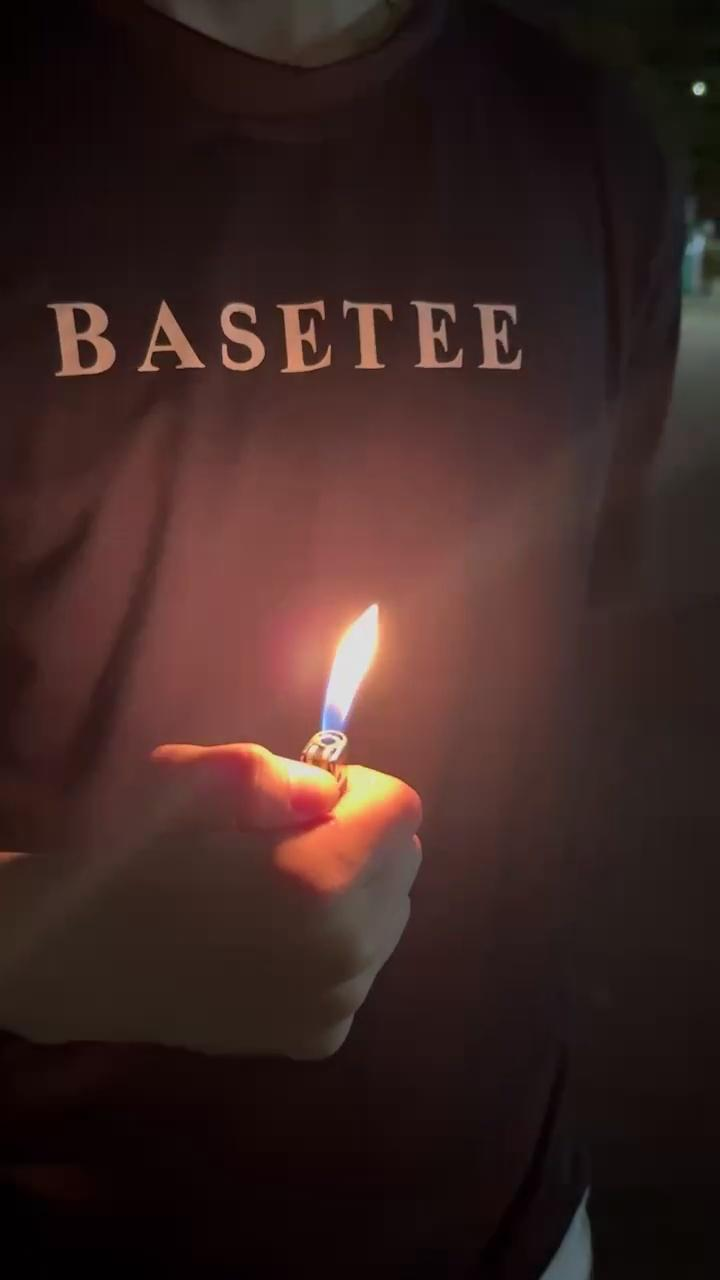Fire: (308, 558, 388, 775)
